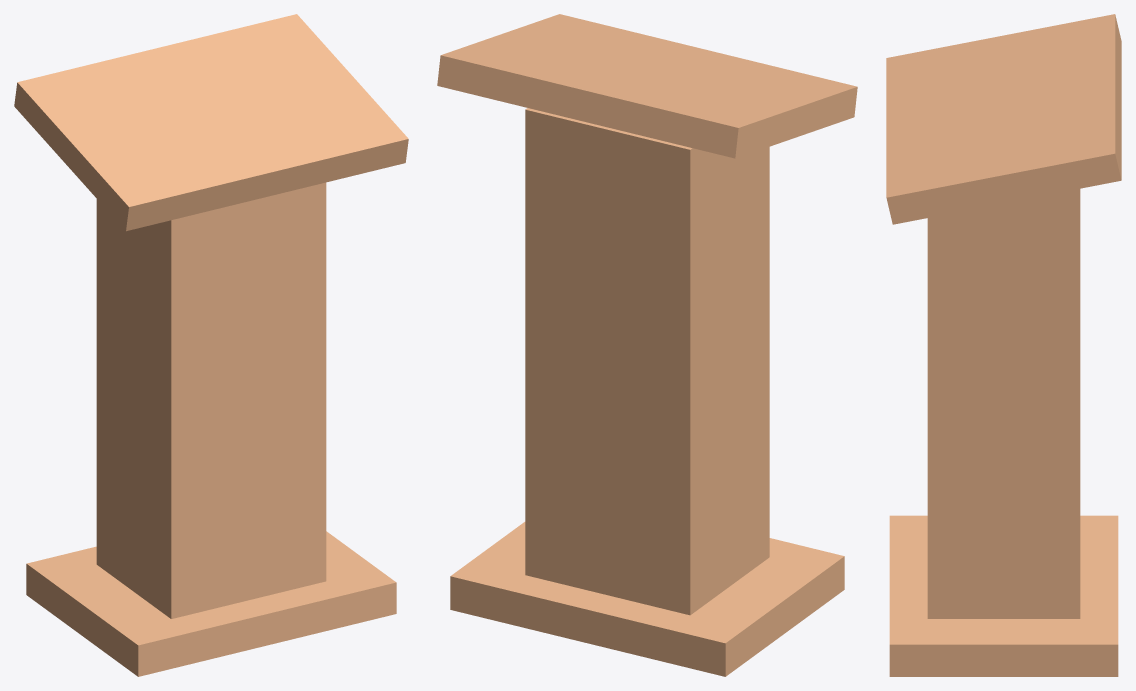
3 views of the same model, side by side, from view 1: azimuth 30°, elevation 25°; view 2: azimuth 150°, elevation 25°; view 3: azimuth 270°, elevation 25° (orthographic). The views are drawn at different scales.
Visible parts, largest first — view 1: Body, Reading top, Foot; view 2: Body, Reading top, Foot; view 3: Body, Reading top, Foot.
Part boxes in pixels (x1=…): Body: x1=96, y1=182, x2=326, y2=618; Reading top: x1=14, y1=14, x2=408, y2=231; Foot: x1=26, y1=531, x2=396, y2=676; Body: x1=525, y1=108, x2=769, y2=615; Reading top: x1=437, y1=14, x2=857, y2=158; Foot: x1=450, y1=522, x2=844, y2=676; Body: x1=927, y1=189, x2=1080, y2=618; Reading top: x1=886, y1=14, x2=1121, y2=224; Foot: x1=889, y1=515, x2=1118, y2=676.
Bounding box in the file's own units: 65 × 115 × 46.24.
